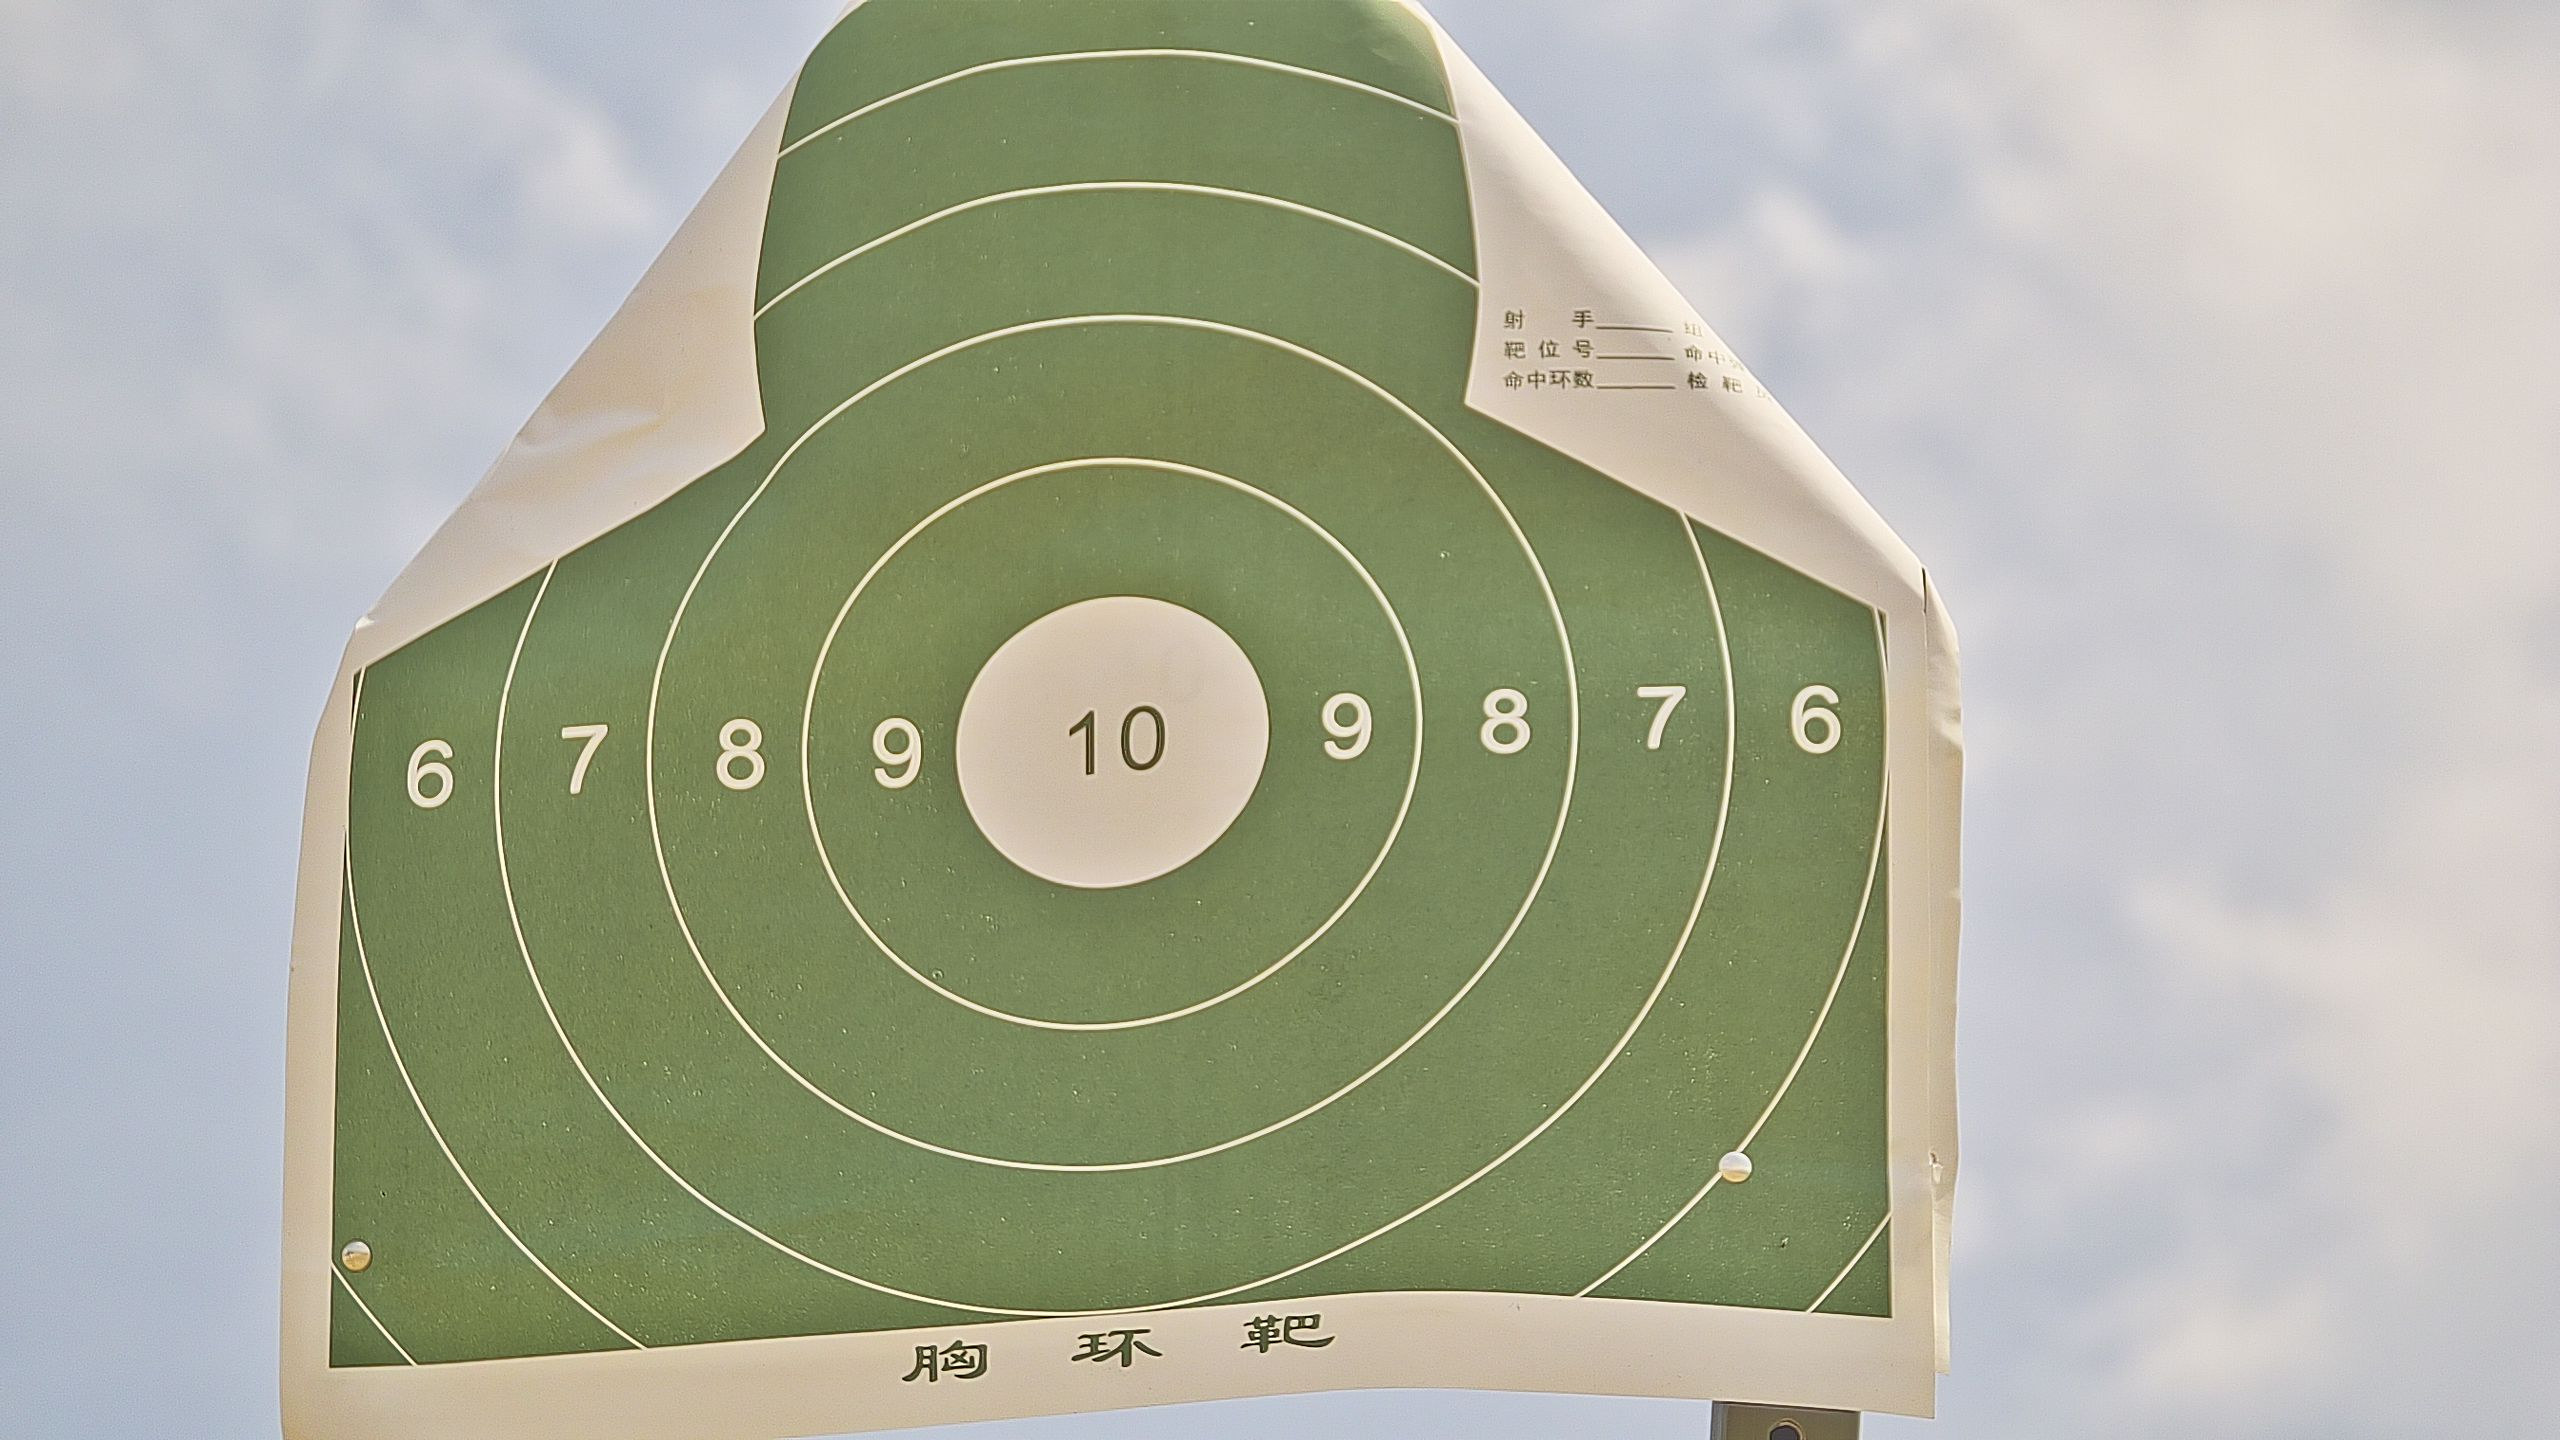kernel: (1104, 744, 1108, 745)
target: (334, 5, 1902, 1366)
ten: (949, 593, 1276, 890)
